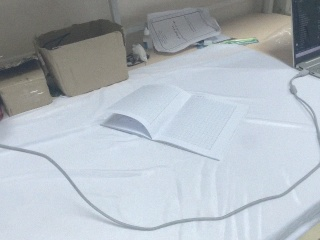box: (35, 18, 128, 98), (1, 54, 54, 118)
